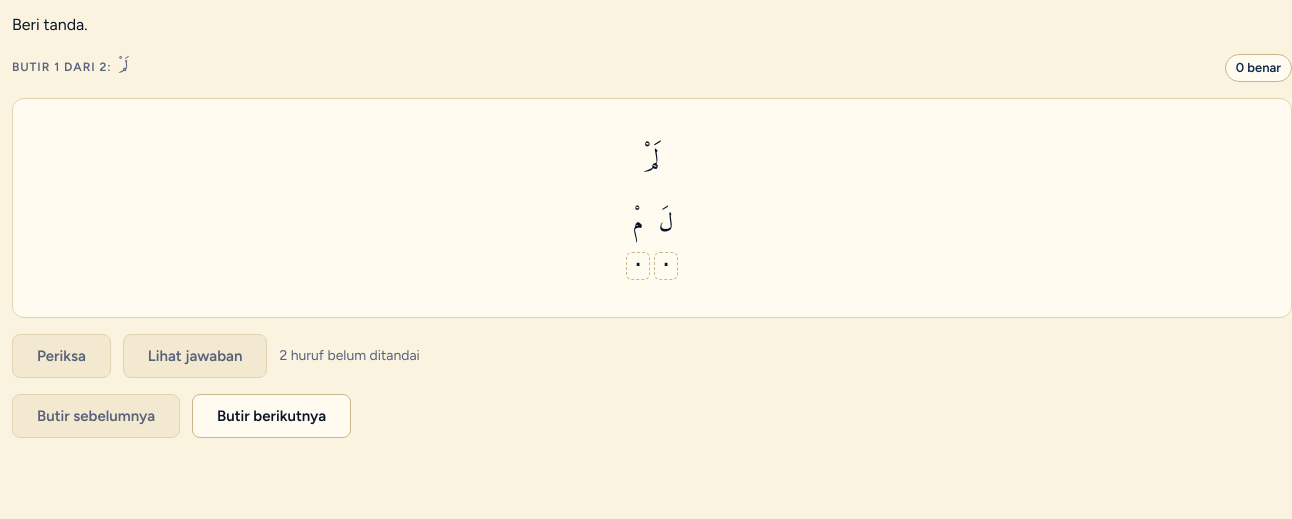
Test: tamrinat bertingkat › drill tandai: butir demi butir, hitungan benar bertambah
Expected: the text "Butir 1 dari 2: لَمْ" is shown, [12,58,132,78]
What coordinates should you click on to do the following:
click the button named "huruf"
I would click on:
 (666, 266)
Its box is [654,252,678,280].
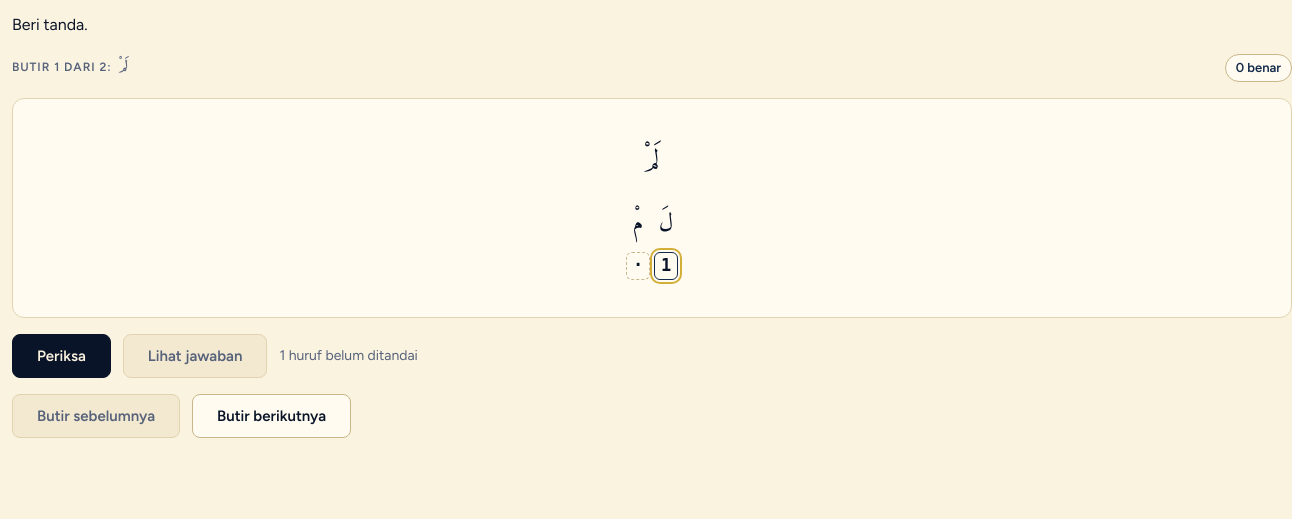
What coordinates should you click on to do the following:
click the button named "huruf"
I would click on:
 (638, 266)
Its box is [626,252,650,280].
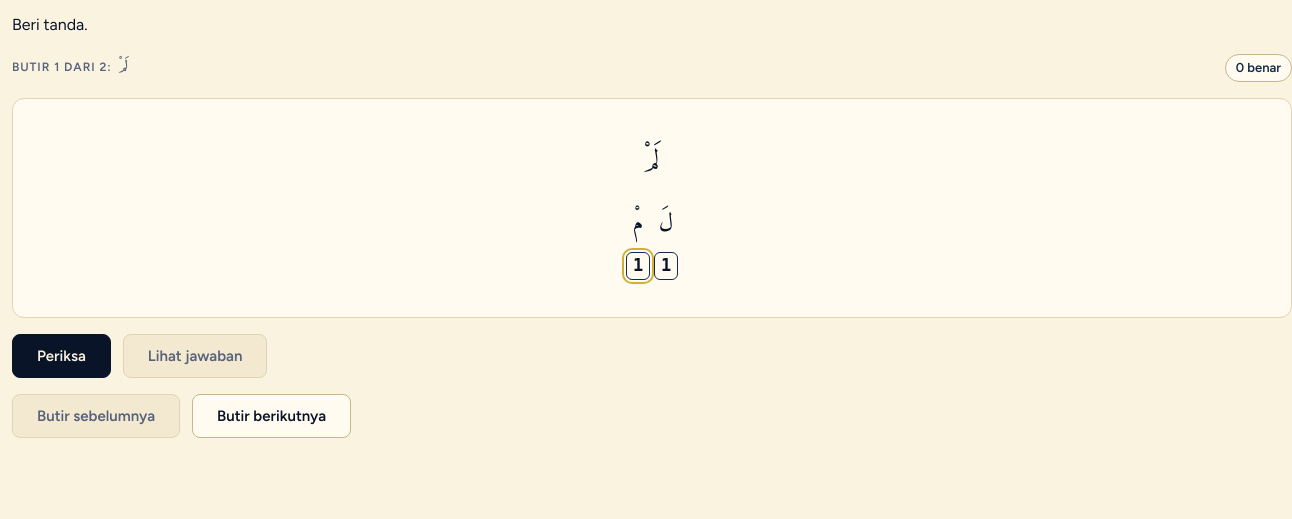
What coordinates should you click on to do the following:
click the button named "huruf"
I would click on:
 (638, 266)
Its box is [626,252,650,280].
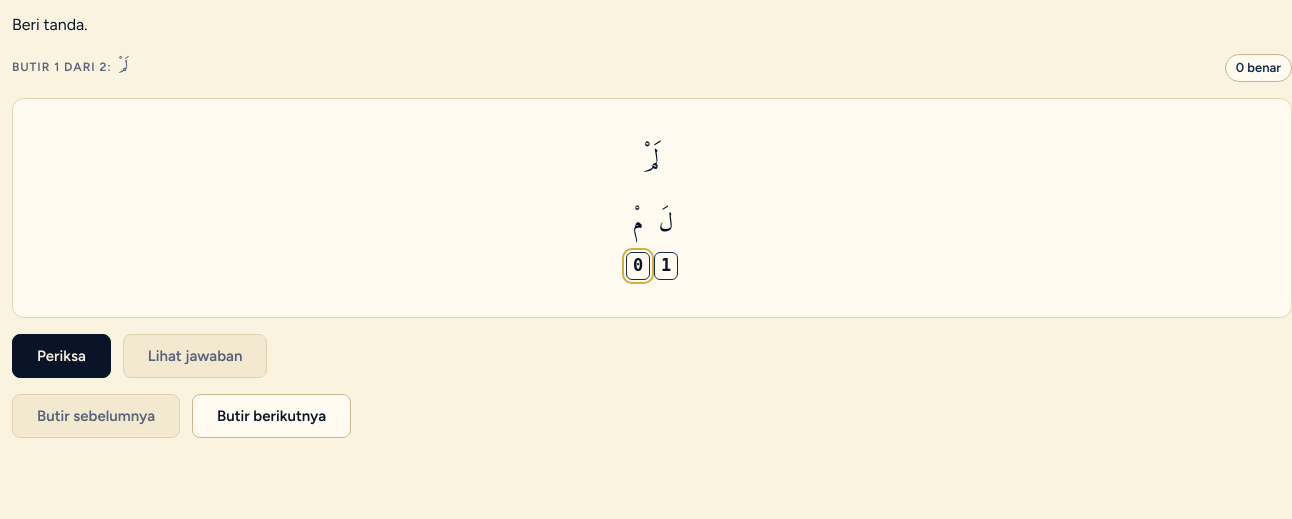
What coordinates should you click on to do the following:
click the button "Periksa"
I would click on:
 (61, 356)
Its box is [12,334,111,378].
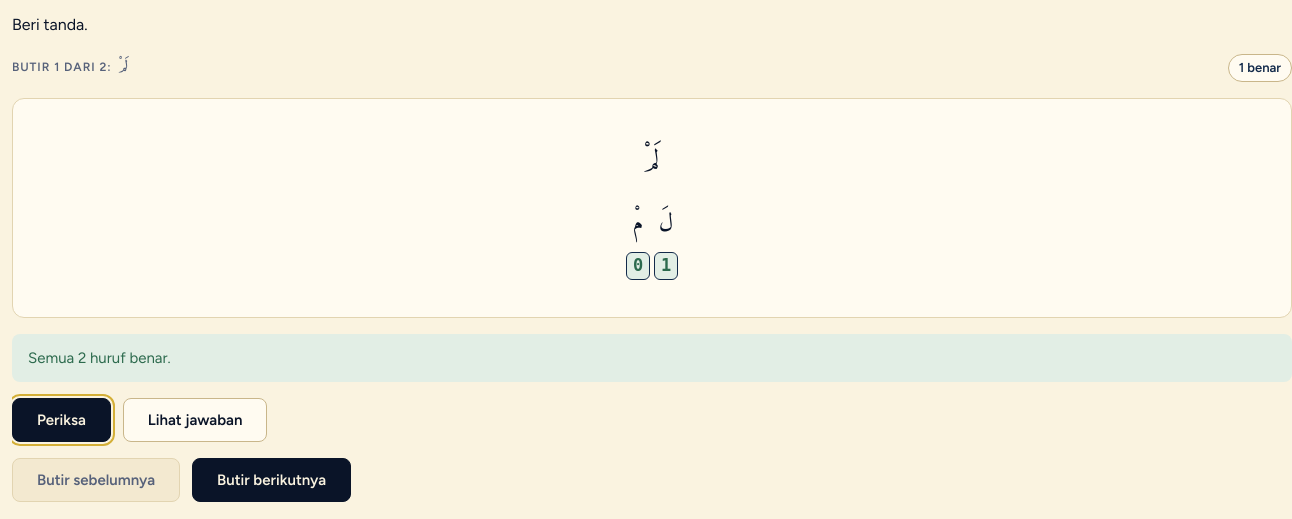
Expected: the text "1 benar" is shown, [1228,54,1291,82]
What coordinates should you click on to do the following:
click the button "Butir berikutnya"
I would click on:
 (272, 480)
Its box is [192,458,351,502].
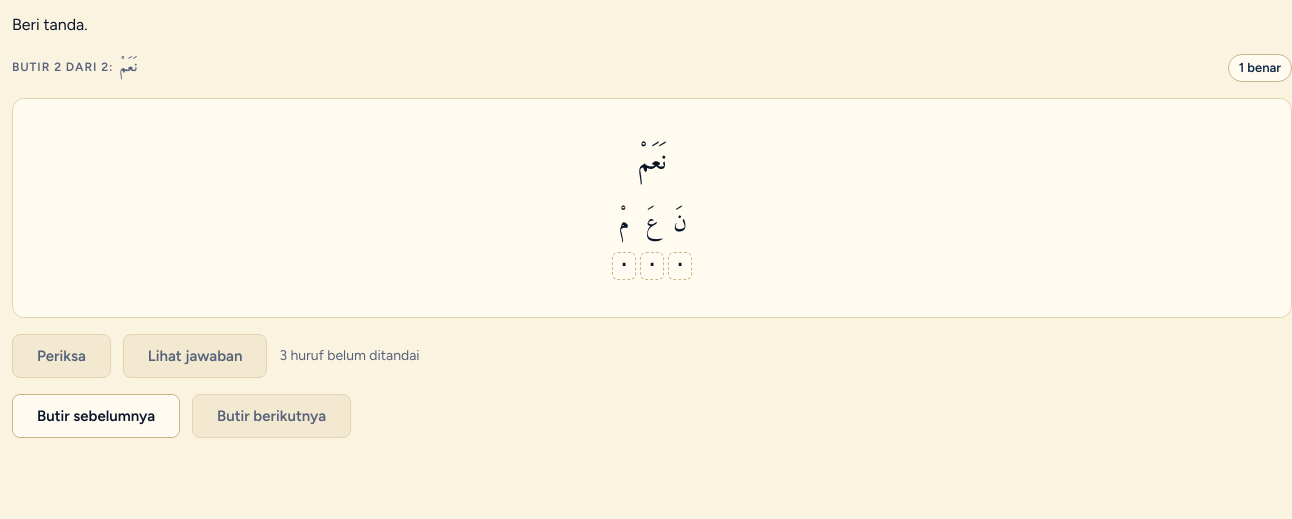
Expected: the text "Butir 2 dari 2: نَعَمْ" is shown, [12,58,140,78]
